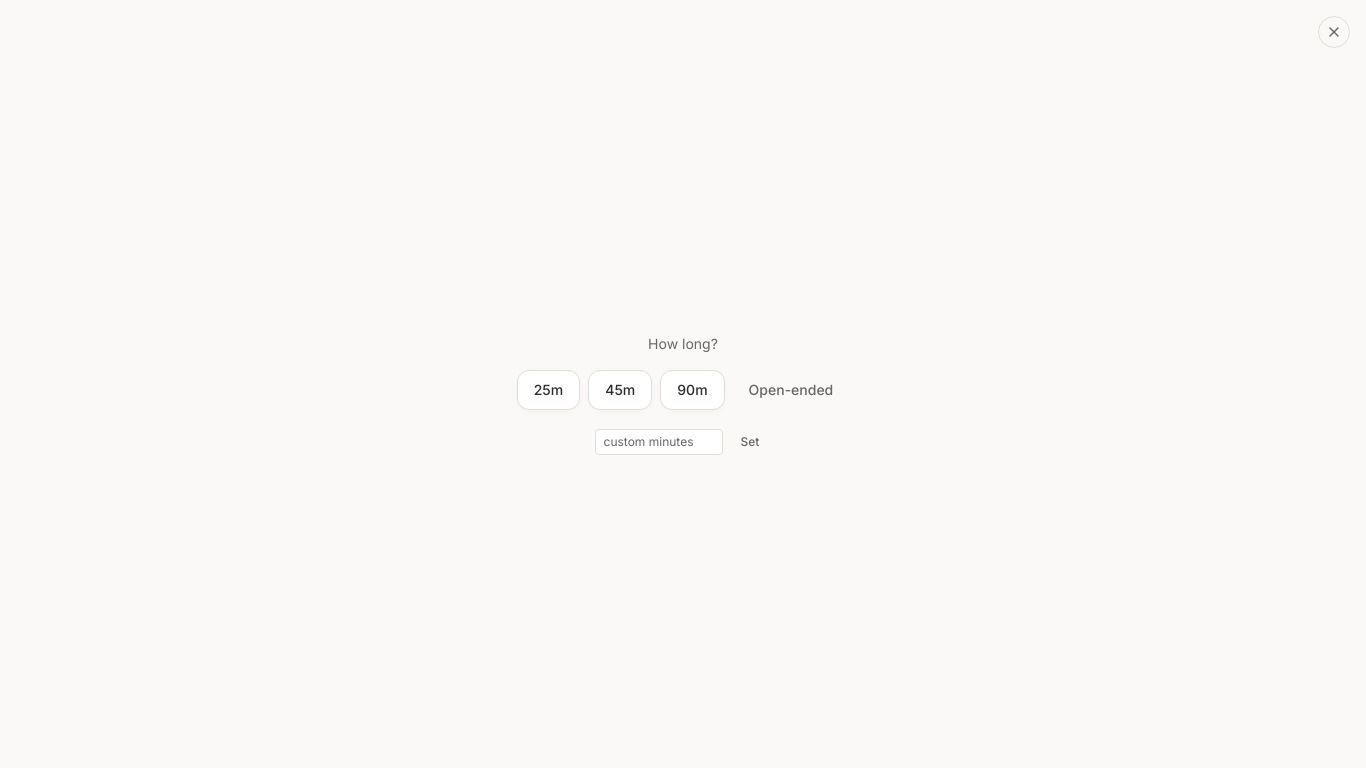
Test: FocusMode › Park button opens the park dialog with Park disabled until a field is filled
Click the button with test id "focus-duration-open-ended": coordinates (791, 390) [733,370,849,410]
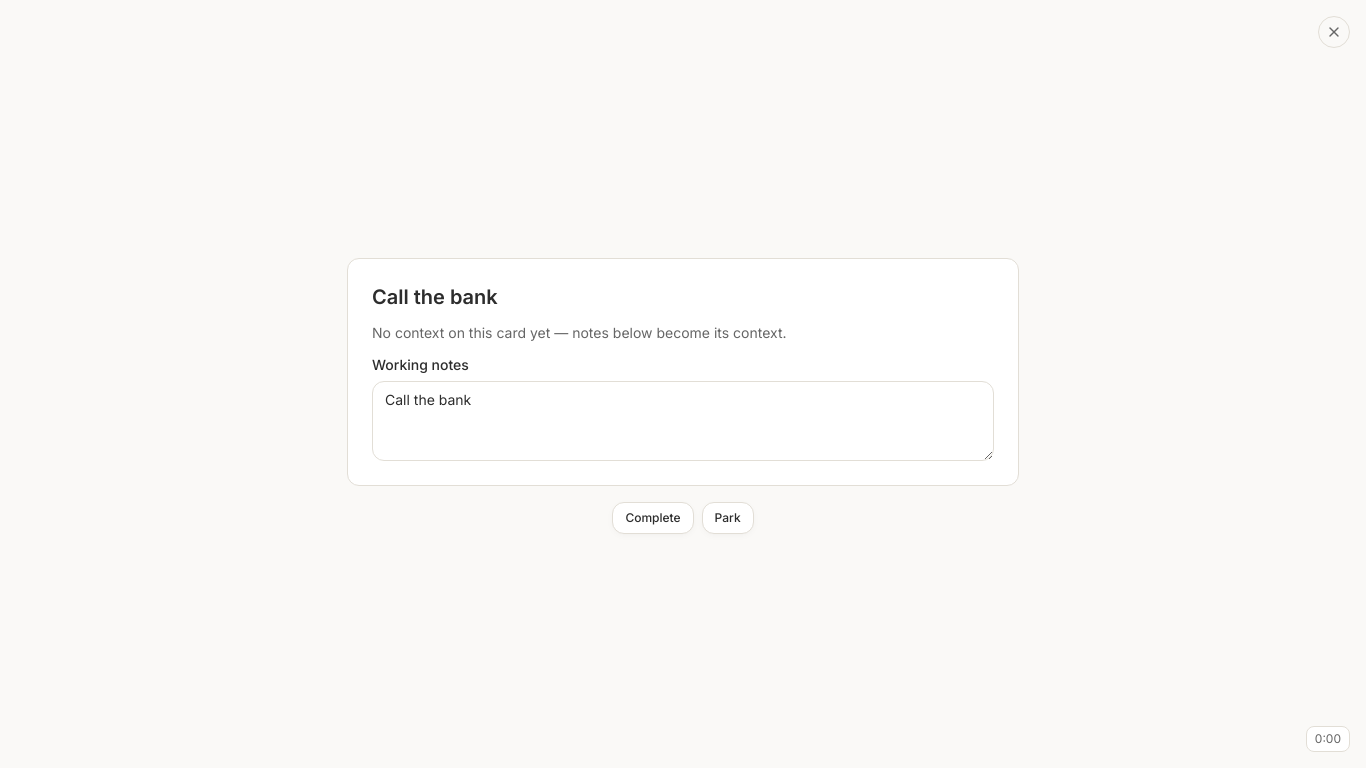
Click the button with test id "focus-mode-park-button": coordinates (728, 518) [702,502,754,534]
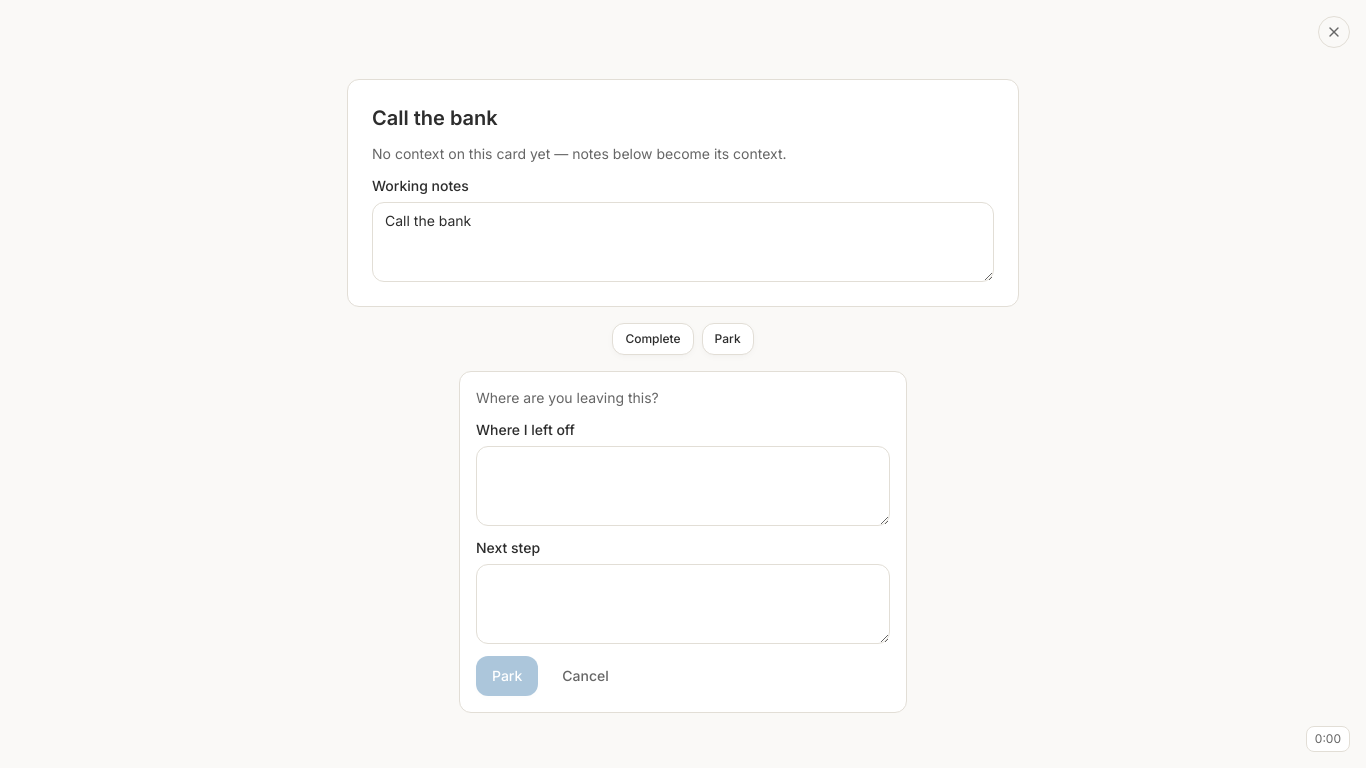
Result: the element with test id "focus-mode-park-dialog" is shown at [459,371,907,713]
Result: the button with test id "focus-mode-park-submit" is disabled at [476,656,538,696]
In the text box with test id "focus-mode-where-left-off": coordinates (683, 486) [476,446,890,526], type "halfway through the draft"
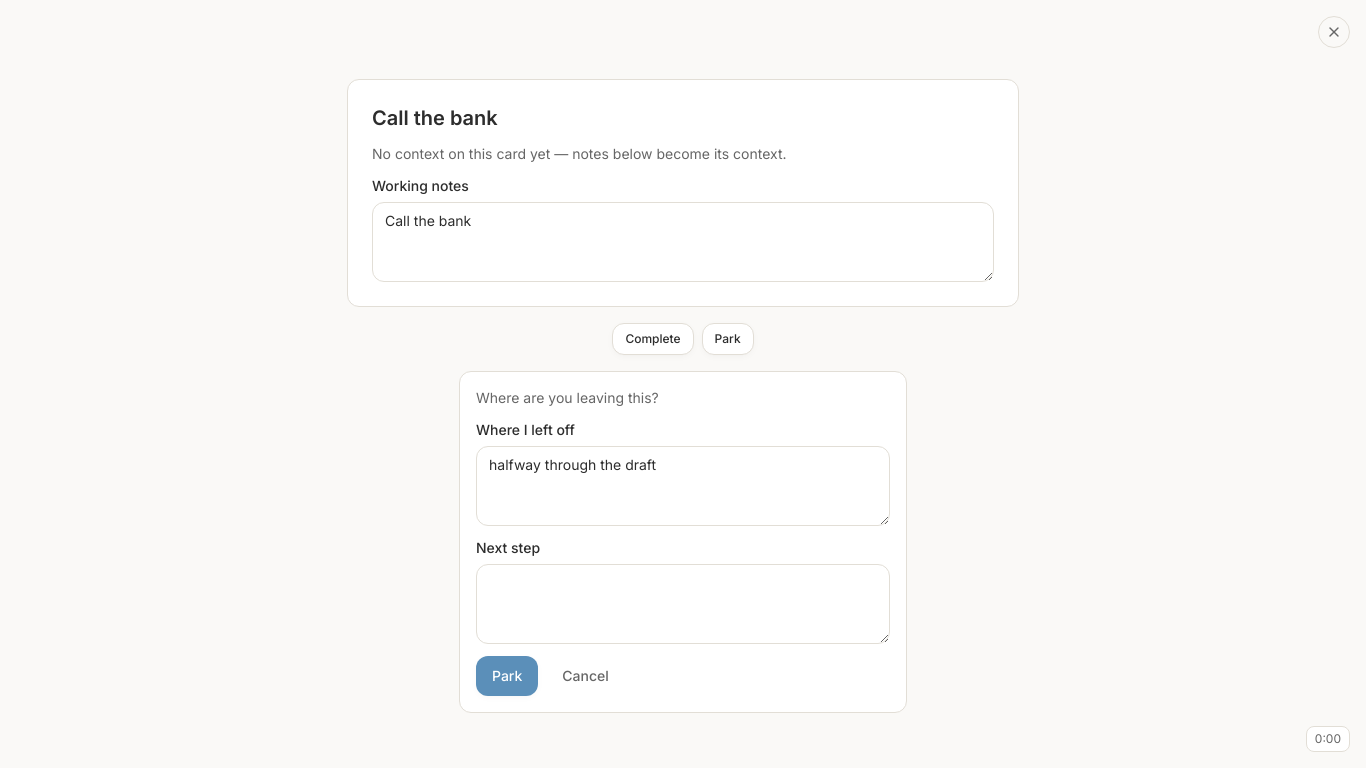
Result: the button with test id "focus-mode-park-submit" is enabled at [476,656,538,696]
